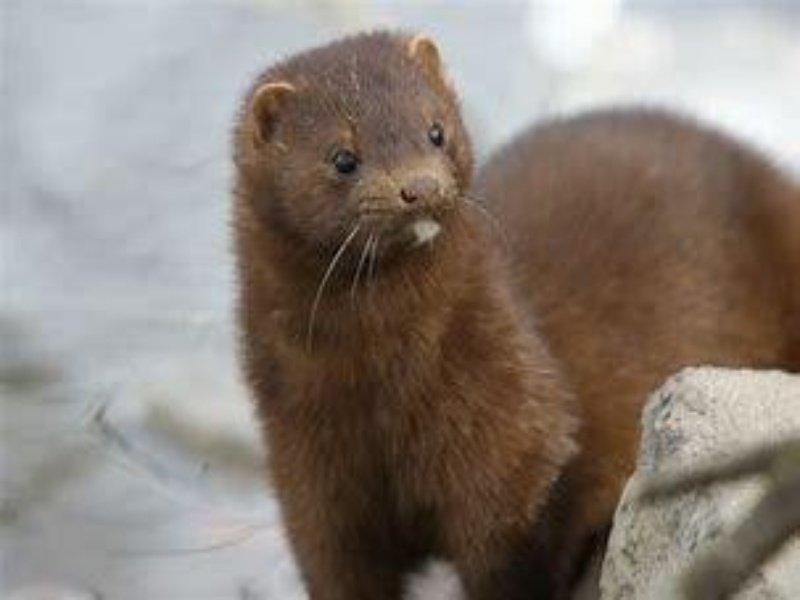minkish: (222, 30, 797, 587)
